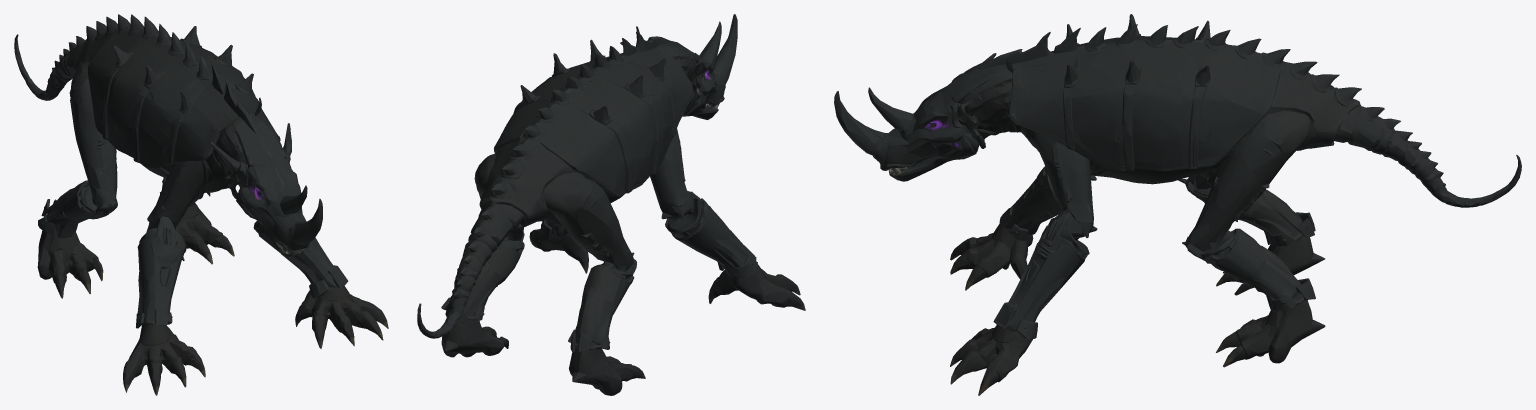
The model's file is behemoth.glb.
3 renders of one model, left to right at view 1: azimuth 30°, elevation 25°; view 2: azimuth 150°, elevation 25°; view 3: azimuth 270°, elevation 25°, orthographic. The views are drawn at different scales.
Bounding box in the file's own units: 0.9404 × 0.9156 × 1.9.
Materials: 1 (1 with a texture image).
